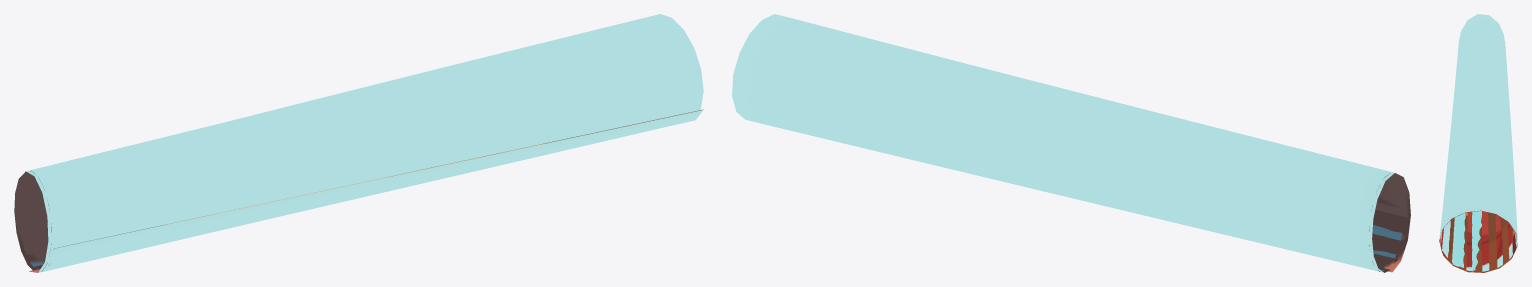
Rendered from Level 69.fbx.
The picture shows the model from 3 angles, left to right: view 1: azimuth 30°, elevation 25°; view 2: azimuth 150°, elevation 25°; view 3: azimuth 270°, elevation 25°; orthographic projection. The views are drawn at different scales.
Visible parts, largest first — view 1: polySurface39; view 2: polySurface39; view 3: polySurface39.
Boxes of the visible parts, x1,y1,x2,y2 form: polySurface39: (14,14,703,272); polySurface39: (732,14,1410,272); polySurface39: (1439,14,1517,272).
Size of what is drawn, in the model's own units: 512 by 74.86 by 85.7.
